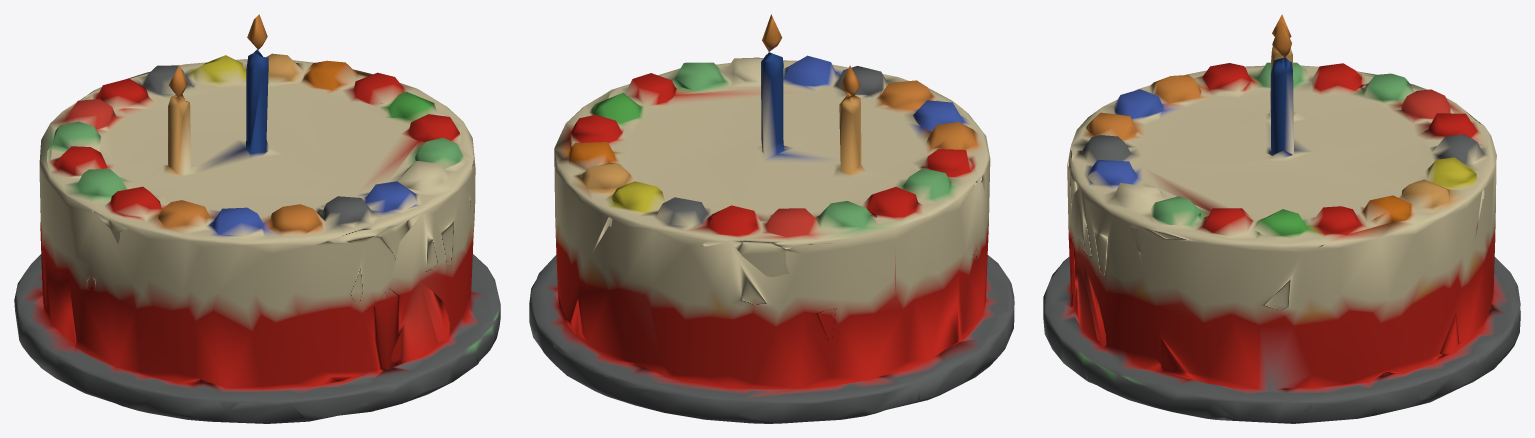
Rendered from gen3d-birthday-cake-lod0.glb.
3 views of the same model, side by side, from view 1: azimuth 30°, elevation 25°; view 2: azimuth 150°, elevation 25°; view 3: azimuth 270°, elevation 25° (orthographic).
Visible parts, largest first — view 1: part_0; view 2: part_0; view 3: part_0.
Part boxes in pixels (<box>): part_0: <box>14,14,500,423</box>; part_0: <box>529,14,1014,423</box>; part_0: <box>1043,14,1520,423</box>.
Bounding box in the file's own units: 1.42 × 0.9965 × 1.42.
